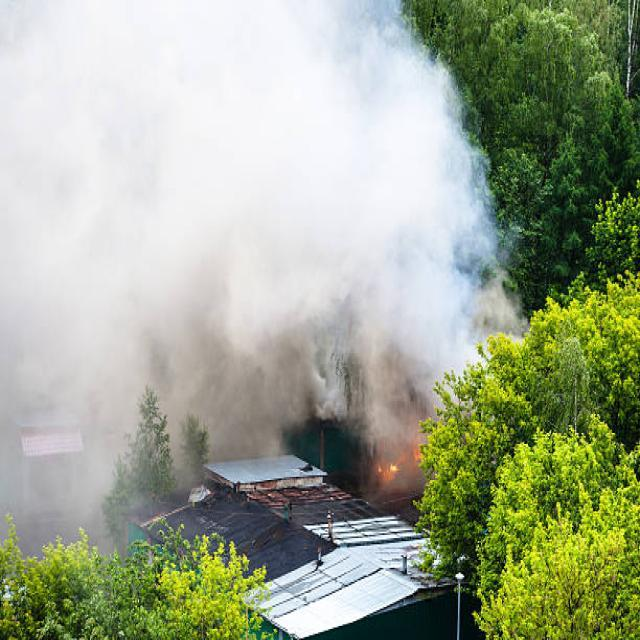Fire: (378, 448, 428, 492)
Smoke: (0, 3, 517, 339), (222, 344, 429, 452), (5, 338, 100, 536)
